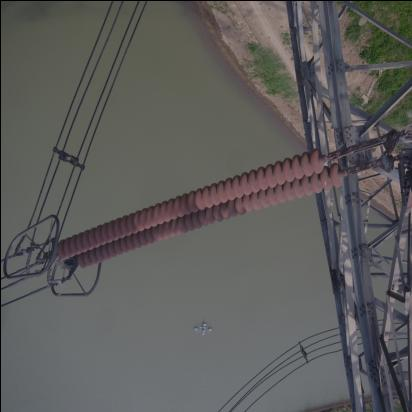insulator: (54, 146, 357, 272)
